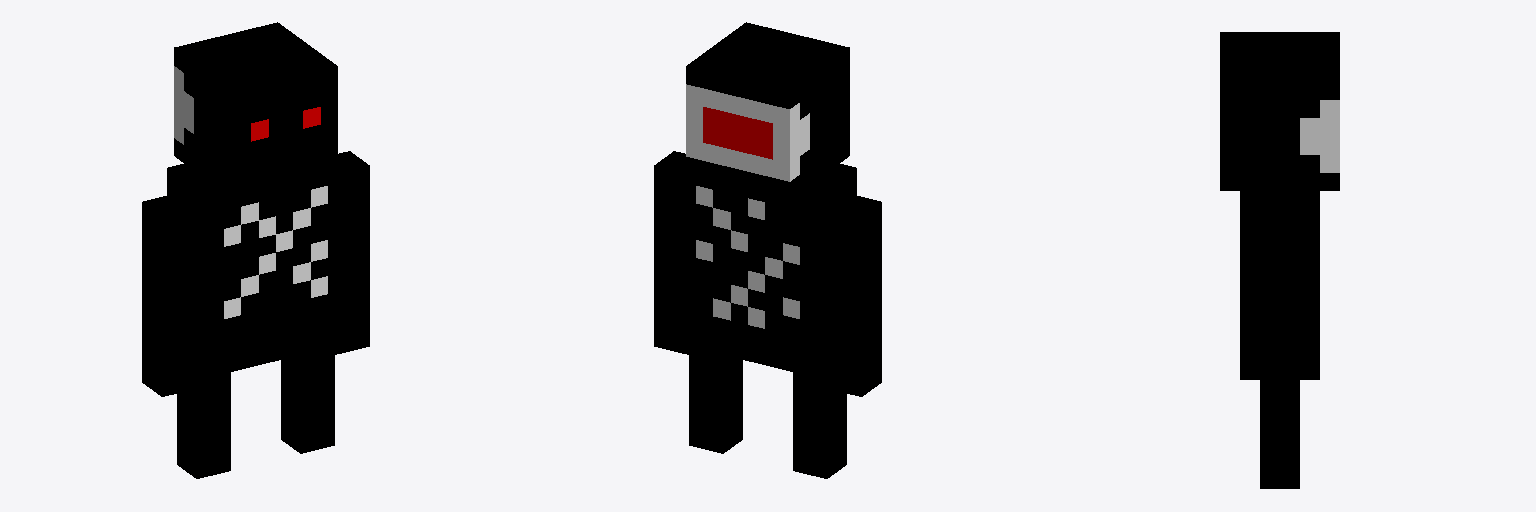
The picture shows the model from 3 angles: view 1: azimuth 30°, elevation 25°; view 2: azimuth 150°, elevation 25°; view 3: azimuth 270°, elevation 25°; orthographic projection.
Visible parts, largest first — view 1: body, head, arm, foot; view 2: body, head, arm, foot; view 3: head, body, arm, foot.
Boxes of the visible parts, x1=… form: body: x1=167, y1=158, x2=344, y2=377; head: x1=174, y1=22, x2=337, y2=199; arm: x1=142, y1=151, x2=369, y2=396; foot: x1=177, y1=347, x2=334, y2=478; body: x1=679, y1=158, x2=856, y2=377; head: x1=686, y1=22, x2=849, y2=199; arm: x1=654, y1=151, x2=881, y2=396; foot: x1=689, y1=347, x2=846, y2=478; head: x1=1220, y1=32, x2=1339, y2=190; body: x1=1240, y1=191, x2=1319, y2=379; arm: x1=1260, y1=217, x2=1299, y2=414; foot: x1=1260, y1=415, x2=1299, y2=488.
Bounding box in the file's own units: 0.75 × 1.38 × 0.375.
1 materials, 1 textured.